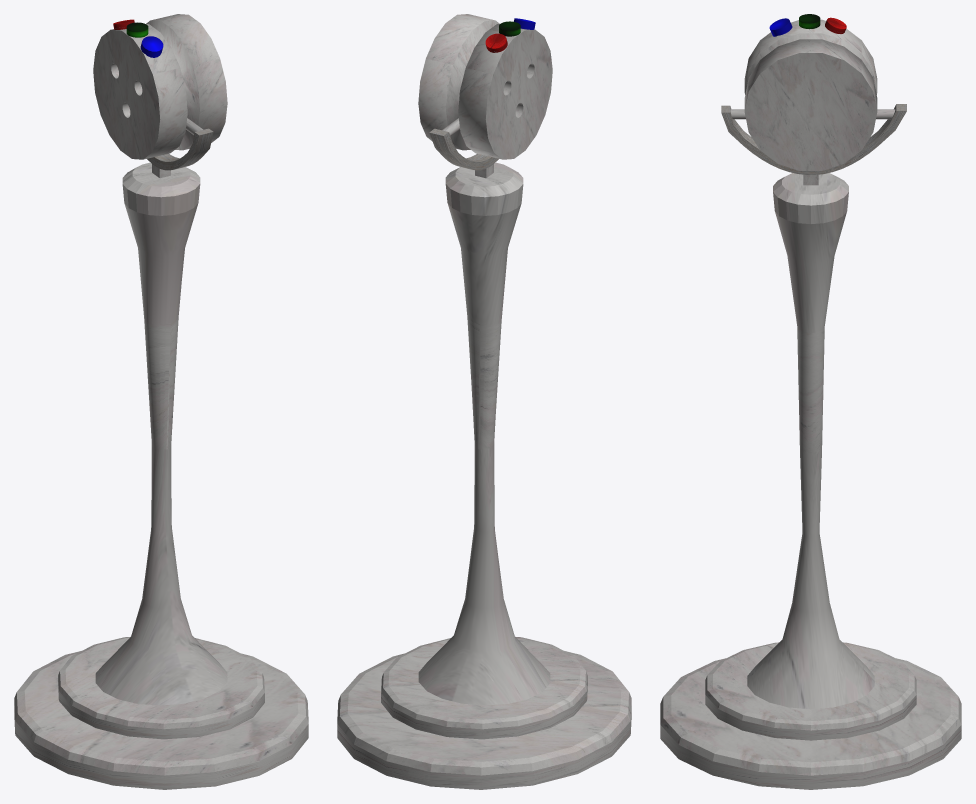
File: portalasers.FBX
3 renders of one model, left to right at view 1: azimuth 30°, elevation 25°; view 2: azimuth 150°, elevation 25°; view 3: azimuth 270°, elevation 25°, orthographic.
Visible parts, largest first — view 1: Cylinder001, Cylinder003, Coso donde van los lasers, Base que gira, Box002; view 2: Cylinder001, Cylinder003, Coso donde van los lasers, Base que gira, Box002; view 3: Cylinder001, Cylinder003, Coso donde van los lasers, Base que gira, Box002.
Boxes of the visible parts, x1,y1,x2,y2 form: Cylinder001: (95, 162, 227, 705); Cylinder003: (14, 651, 308, 789); Coso donde van los lasers: (93, 14, 227, 159); Base que gira: (58, 636, 264, 739); Box002: (147, 128, 213, 170); Cylinder001: (418, 162, 550, 705); Cylinder003: (337, 651, 631, 789); Coso donde van los lasers: (418, 14, 552, 159); Base que gira: (381, 636, 587, 739); Box002: (429, 128, 498, 170); Cylinder001: (747, 173, 874, 709); Cylinder003: (660, 658, 961, 789); Coso donde van los lasers: (744, 19, 877, 170); Base que gira: (705, 642, 916, 740); Box002: (721, 104, 906, 174).
Bounding box in the file's own units: 477 × 1259 × 492.
